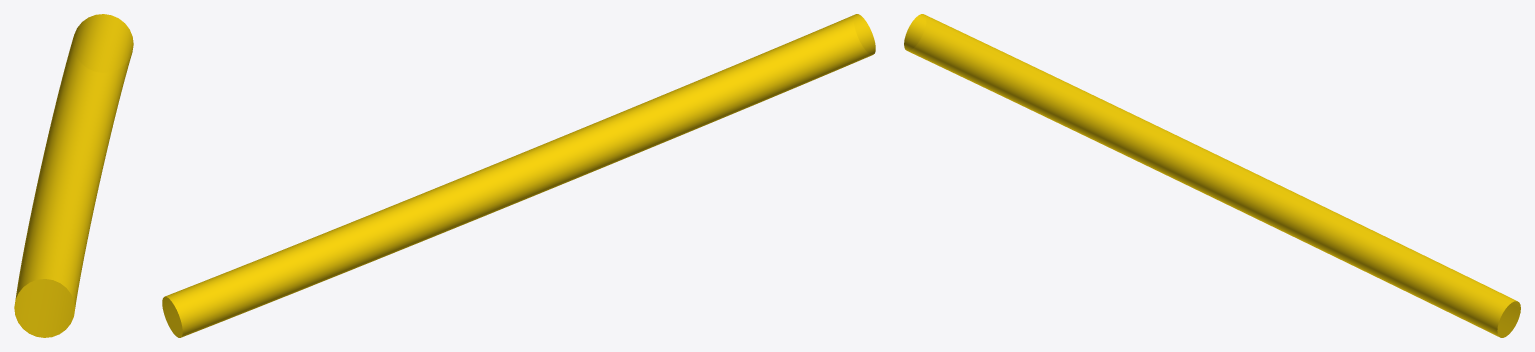
File: Event_421115418_track_62.fbx
3 renders of one model, left to right at view 1: azimuth 90°, elevation 25°; view 2: azimuth 210°, elevation 25°; view 3: azimuth 330°, elevation 25°, orthographic. The views are drawn at different scales.
Visible parts, largest first — view 1: Model; view 2: Model; view 3: Model.
Part boxes in pixels (box(x1,y1,x2,y2)): Model: box(14, 14, 133, 337); Model: box(162, 14, 875, 337); Model: box(904, 14, 1520, 337).
Bounding box in the file's own units: 0.7076 × 0.1736 × 0.0784.
